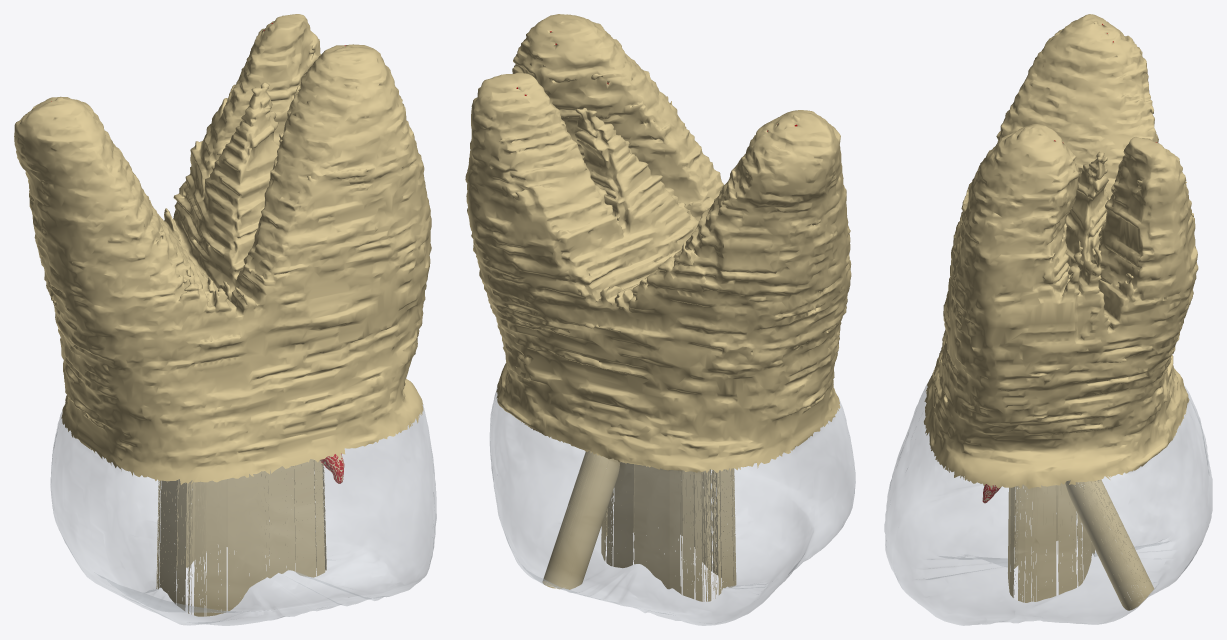
File: anatomy-mobile-v9.glb
The picture shows the model from 3 angles, left to right: view 1: azimuth 30°, elevation 25°; view 2: azimuth 150°, elevation 25°; view 3: azimuth 270°, elevation 25°; orthographic projection. The views are drawn at different scales.
Parts seen in each view (by area): view 1: Tooth_Access_Prepared; view 2: Tooth_Access_Prepared; view 3: Tooth_Access_Prepared.
Boxes of the visible parts, box(x1,y1,x2,y2) form: Tooth_Access_Prepared: box(14, 14, 436, 625); Tooth_Access_Prepared: box(465, 14, 855, 625); Tooth_Access_Prepared: box(884, 14, 1212, 625).
Size of the model in its own units: 7.21 by 10.06 by 5.98.
